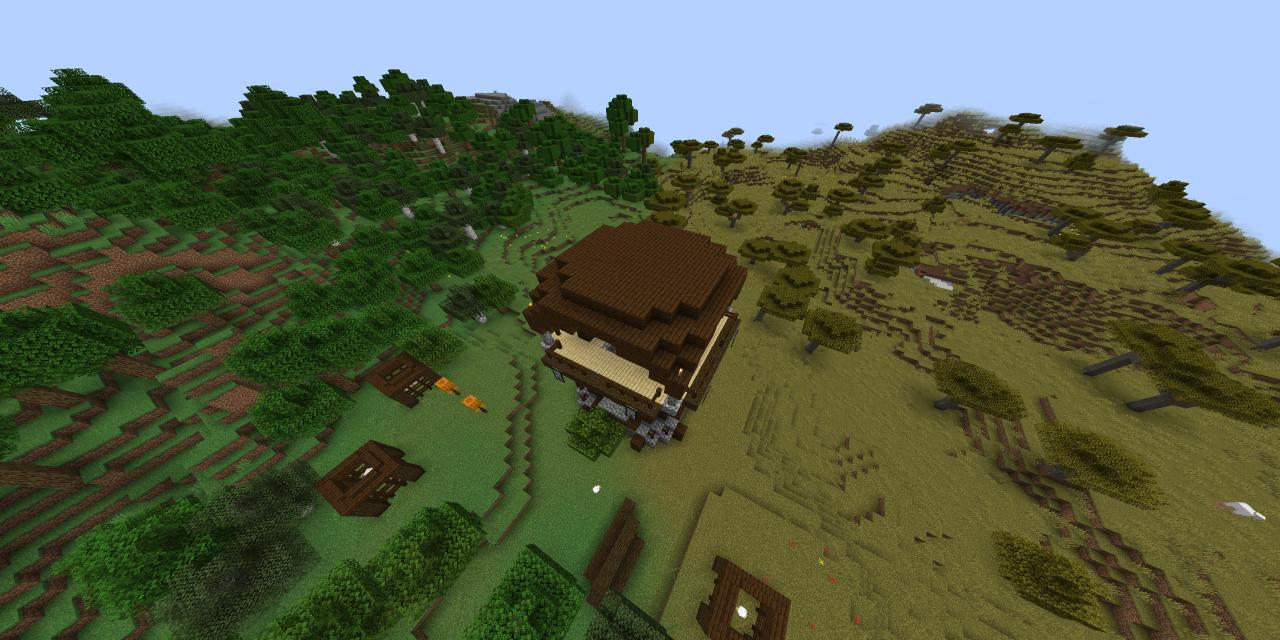pillager outpost: (525, 208, 765, 480)
